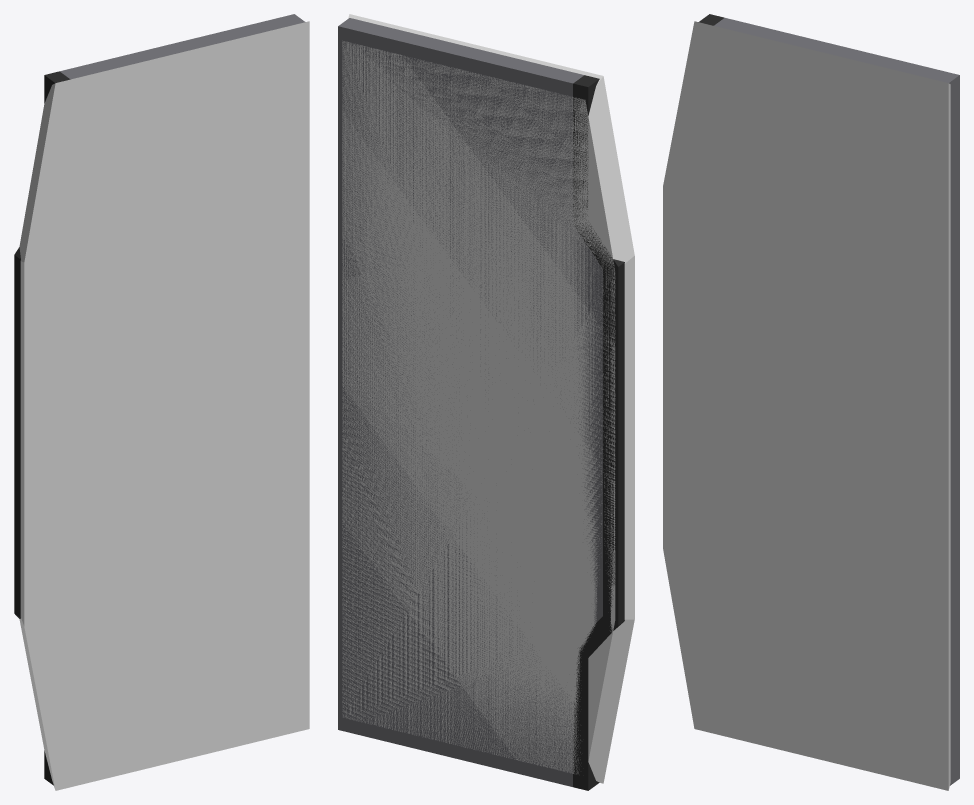
The model's file is SM_Bld_Lift_Door_01.fbx.
3 renders of one model, left to right at view 1: azimuth 30°, elevation 25°; view 2: azimuth 150°, elevation 25°; view 3: azimuth 330°, elevation 25°, orthographic.
Visible parts, largest first — view 1: SM_Bld_Lift_Door_01_ConvexHulls, SM_Bld_Lift_Door_01_LOD0; view 2: SM_Bld_Lift_Door_01_ConvexHulls, SM_Bld_Lift_Door_01_LOD0; view 3: SM_Bld_Lift_Door_01_ConvexHulls, SM_Bld_Lift_Door_01_LOD0.
Boxes of the visible parts, x1=… form: SM_Bld_Lift_Door_01_ConvexHulls: x1=19, y1=21, x2=309, y2=790; SM_Bld_Lift_Door_01_LOD0: x1=14, y1=14, x2=305, y2=785; SM_Bld_Lift_Door_01_ConvexHulls: x1=342, y1=14, x2=634, y2=783; SM_Bld_Lift_Door_01_LOD0: x1=338, y1=18, x2=624, y2=790; SM_Bld_Lift_Door_01_ConvexHulls: x1=663, y1=21, x2=950, y2=790; SM_Bld_Lift_Door_01_LOD0: x1=698, y1=14, x2=959, y2=785.
Bounding box in the file's own units: 8.03 × 99.89 × 237.
Materials: 1 (1 with a texture image).
